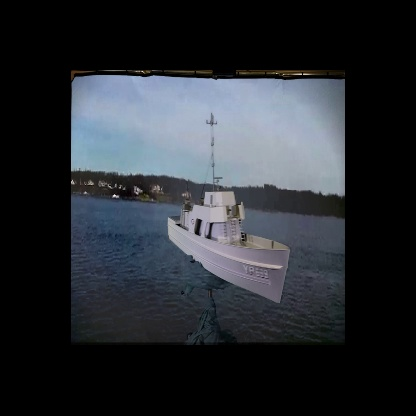YP689: (166, 115, 290, 301)
